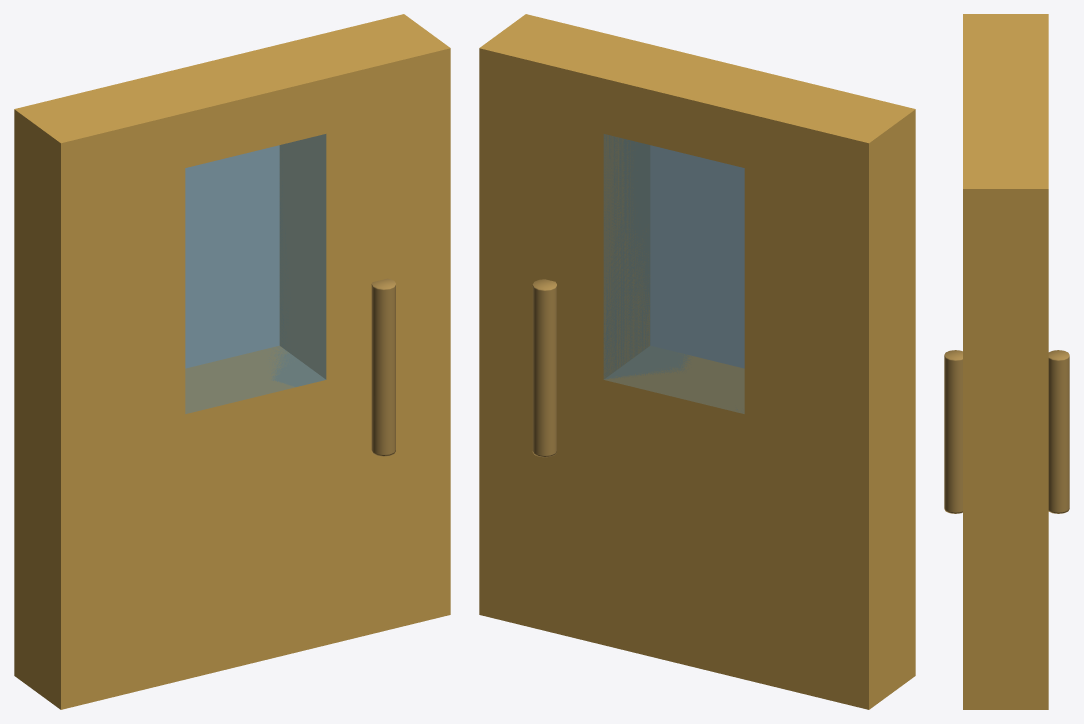
Rendered from SmallDoorGeo.fbx.
3 views of the same model, side by side, from view 1: azimuth 30°, elevation 25°; view 2: azimuth 150°, elevation 25°; view 3: azimuth 270°, elevation 25° (orthographic). The views are drawn at different scales.
Visible parts, largest first — view 1: SmallDoorGeo; view 2: SmallDoorGeo; view 3: SmallDoorGeo.
Part boxes in pixels (left/top/right/bottom): SmallDoorGeo: left=14, top=14, right=450, bottom=709; SmallDoorGeo: left=479, top=14, right=915, bottom=709; SmallDoorGeo: left=944, top=14, right=1069, bottom=709.
Size of the model in its own units: 210 by 291 by 63.47.
